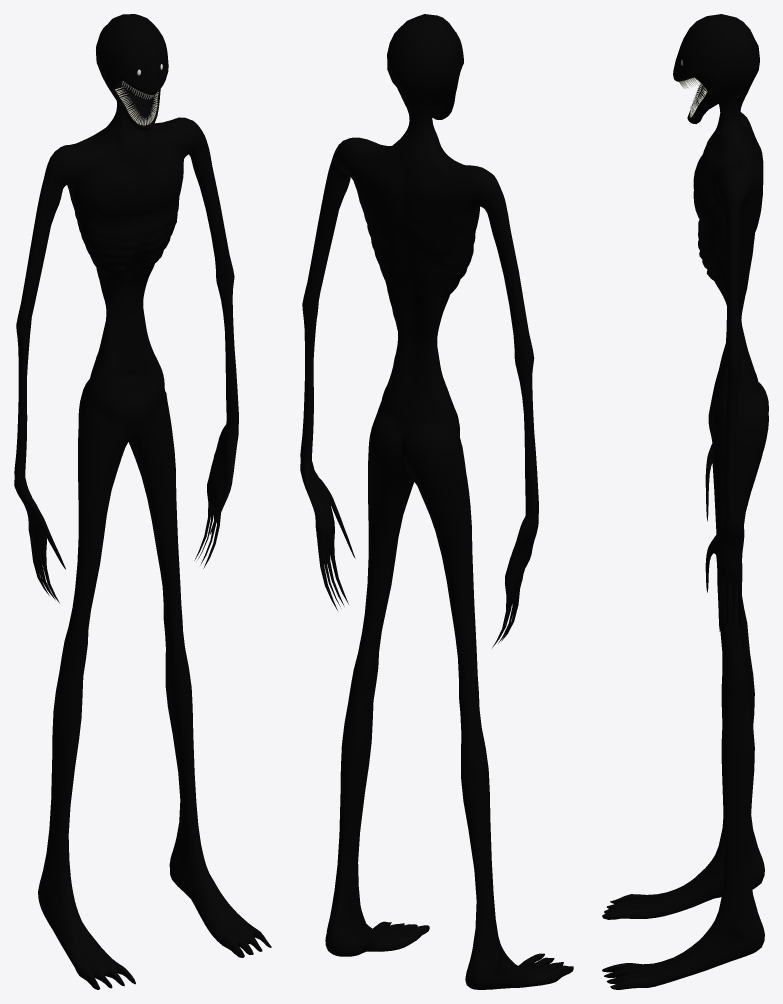
Rendered from tall_figure_in_dark.glb.
3 renders of one model, left to right at view 1: azimuth 30°, elevation 25°; view 2: azimuth 150°, elevation 25°; view 3: azimuth 270°, elevation 25°, orthographic. The views are drawn at different scales.
Parts seen in each view (by area): view 1: creature_1_Body_final; view 2: creature_1_Body_final; view 3: creature_1_Body_final.
Boxes of the visible parts, left/top/right/bottom form: creature_1_Body_final: left=14, top=14, right=271, bottom=989; creature_1_Body_final: left=300, top=14, right=573, bottom=989; creature_1_Body_final: left=602, top=14, right=768, bottom=989.
Size of the model in its own units: 0.5335 by 2.08 by 0.3387.
1 material, 1 textured.
